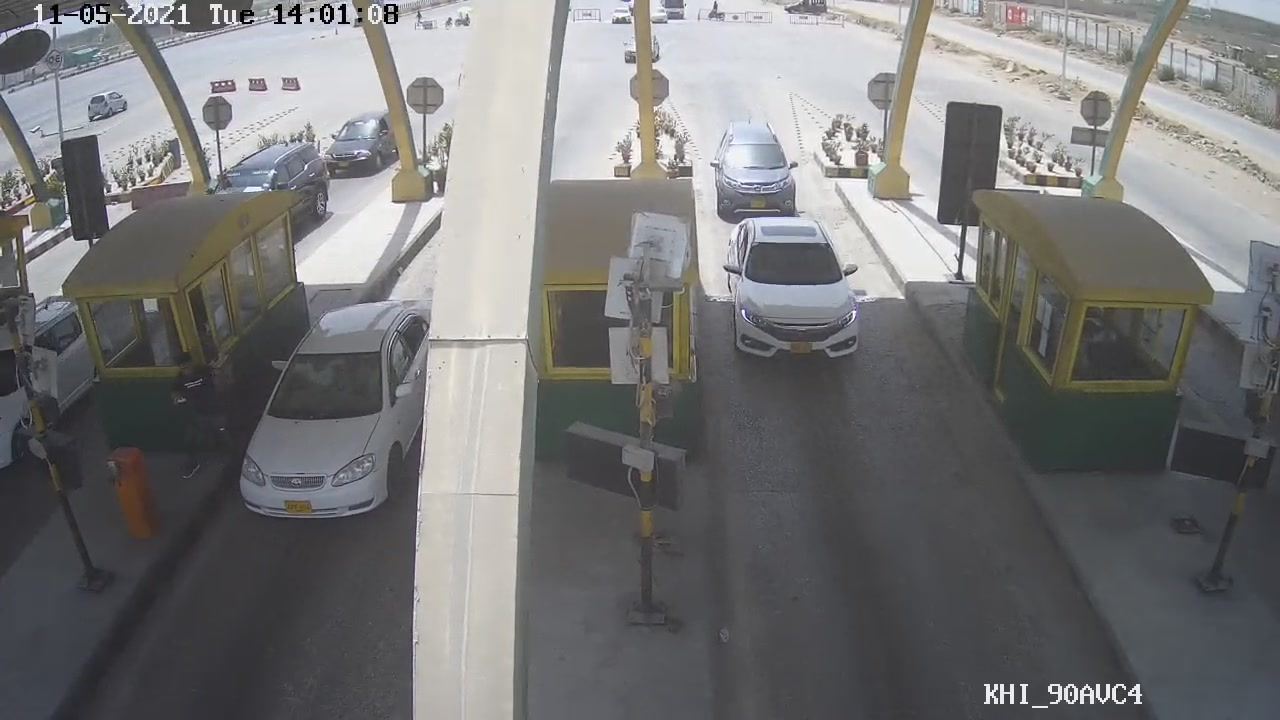F1: (726, 209, 864, 370)
